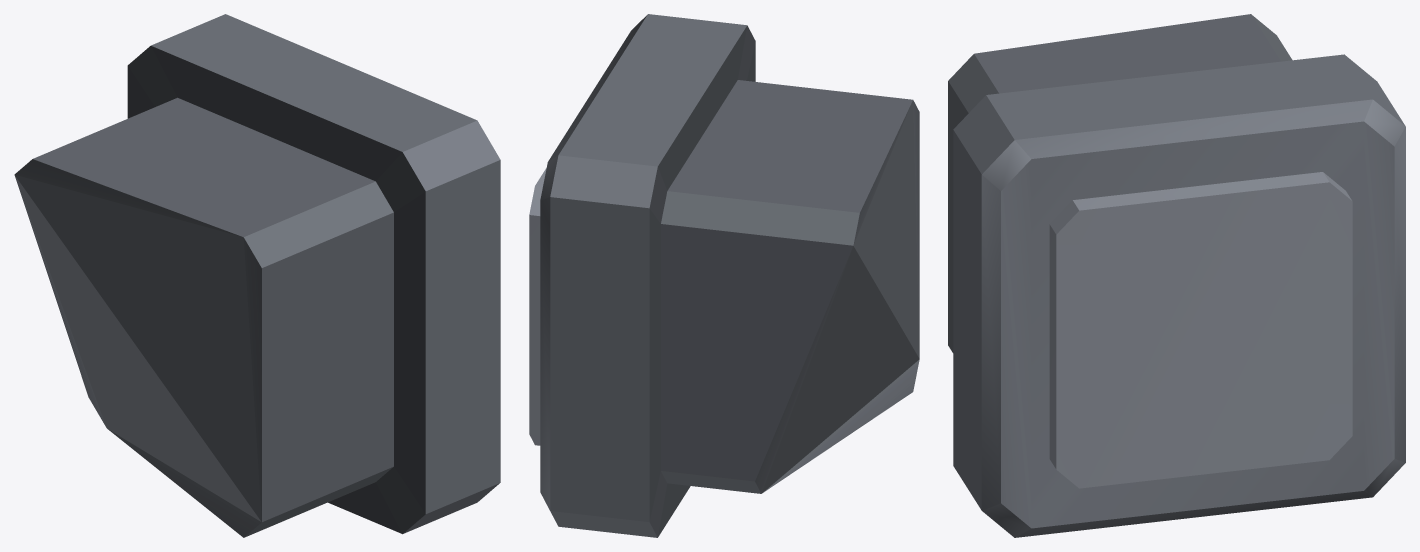
Rendered from Debris 01.FBX.
The picture shows the model from 3 angles, left to right: view 1: azimuth 30°, elevation 25°; view 2: azimuth 150°, elevation 25°; view 3: azimuth 270°, elevation 25°; orthographic projection. The views are drawn at different scales.
Parts seen in each view (by area): view 1: Debris 01; view 2: Debris 01; view 3: Debris 01.
Boxes of the visible parts, x1=… form: Debris 01: x1=14, y1=14, x2=500, y2=537; Debris 01: x1=529, y1=14, x2=919, y2=537; Debris 01: x1=948, y1=14, x2=1405, y2=537.
Size of the model in its own units: 44.58 by 44.83 by 46.72.
